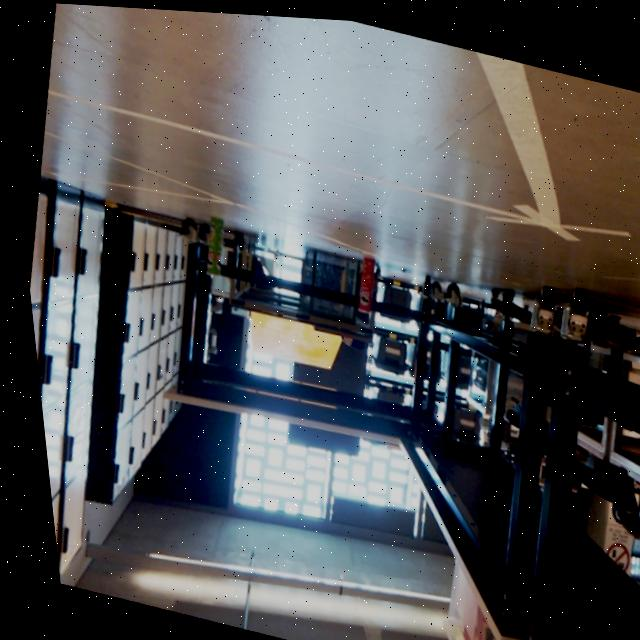greenpringles: (177, 197, 241, 301)
redpringles: (337, 246, 389, 330)
